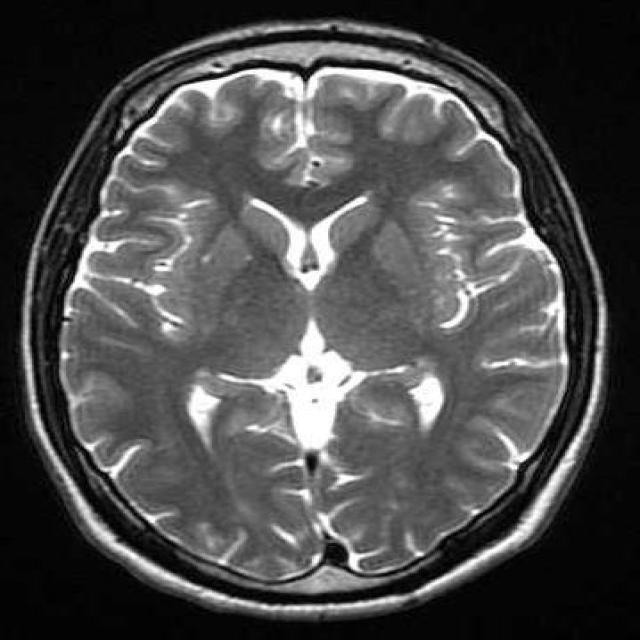No_Tumor: (21, 21, 605, 618)
